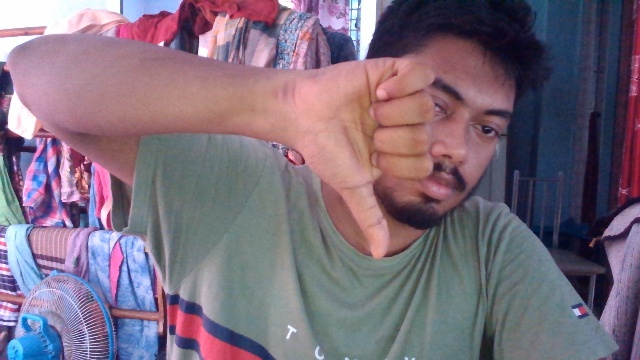no: (283, 54, 445, 256)
